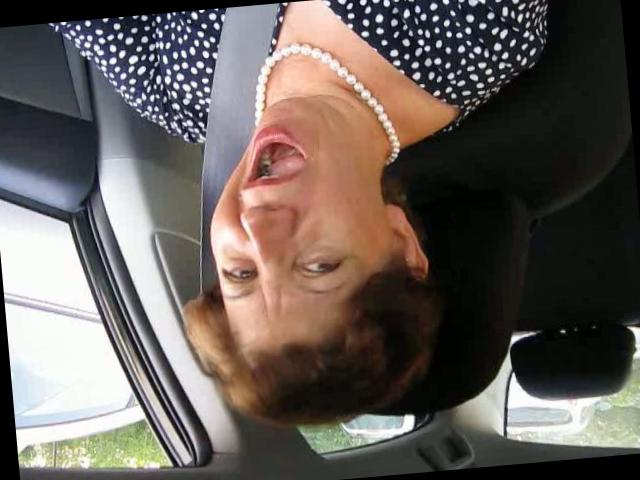eye_open: (298, 253, 348, 282), (218, 260, 260, 286)
face: (192, 88, 380, 326)
mouth_open: (233, 123, 314, 198)
